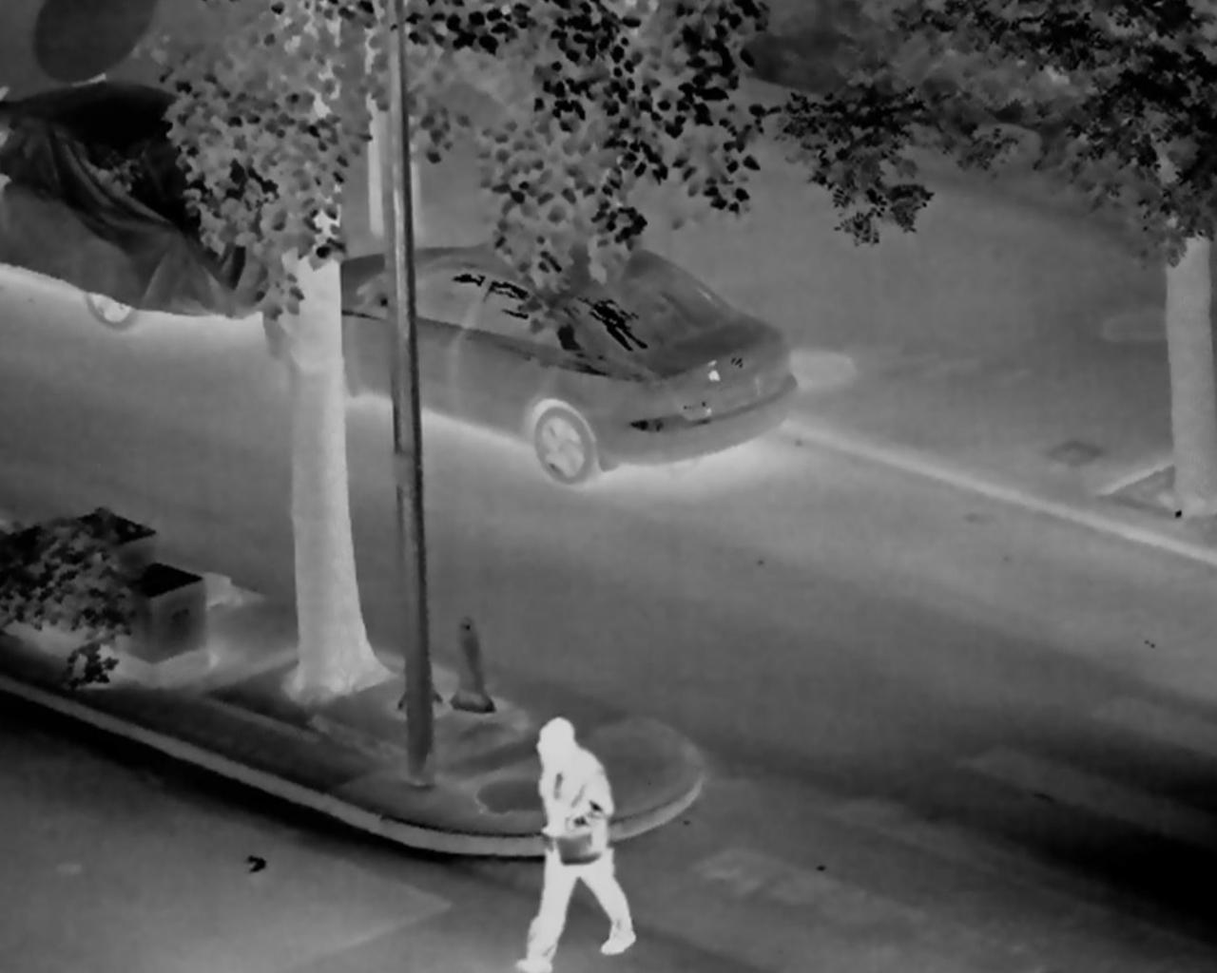person: (521, 717, 638, 969)
